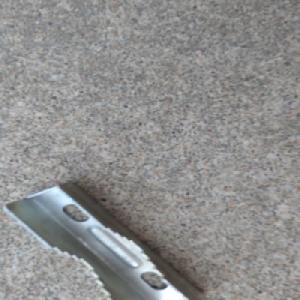ClampPart: (2, 180, 207, 300)
